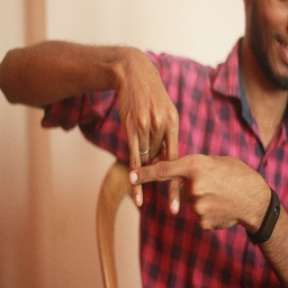H: (117, 109, 207, 220)
